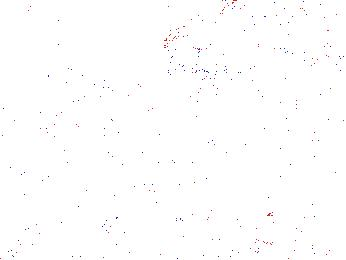moon jellyfish: (210, 1, 295, 73), (33, 11, 110, 76), (163, 21, 245, 74), (296, 1, 346, 60)
